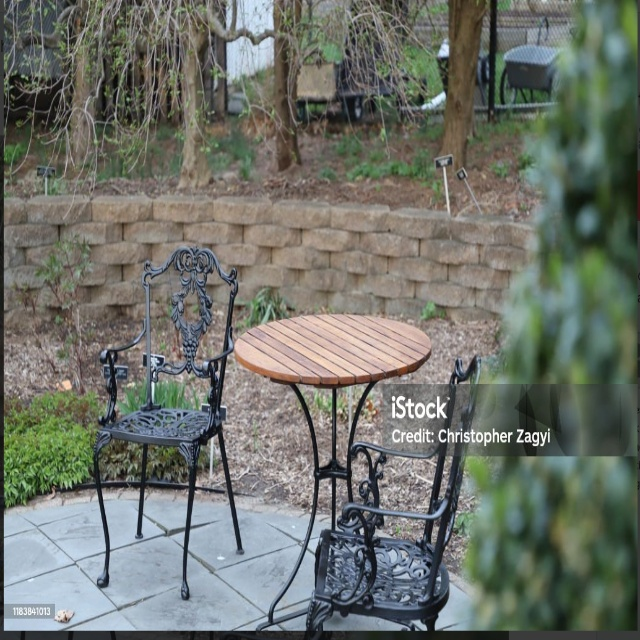obstacle: (95, 243, 242, 584), (311, 354, 459, 627), (235, 312, 435, 469)
